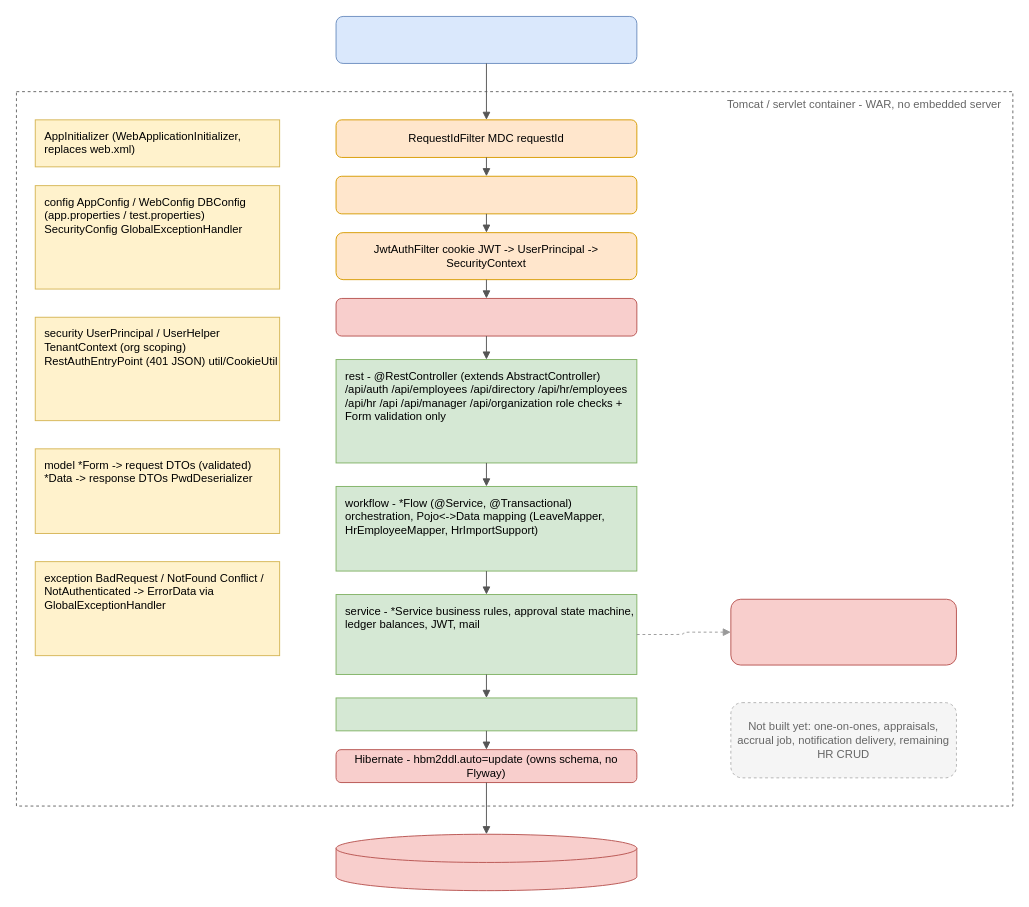
Image size: 1029x907. Some labels were removed from this diagram. The centre of each missing label's shape, as x and y in pixels:
"ApiLoggingFilter method / path / status / duration" goes at point 486,194.
"Frontend SPA (leave-frontend)" goes at point 486,39.
"MySQL - schema `leave`" goes at point 486,862.
"repo - *Repo (Spring Data JPA)" goes at point 486,714.
"SMTP (MailService, Verification / PasswordReset mailers)" goes at point 843,631.
"Spring Security FilterChain -> DispatcherServlet" goes at point 486,317.
